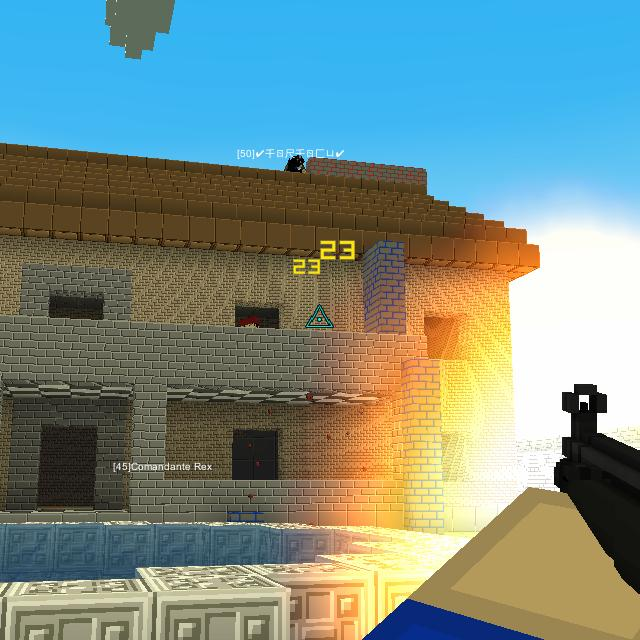enemy: (238, 315, 260, 328)
